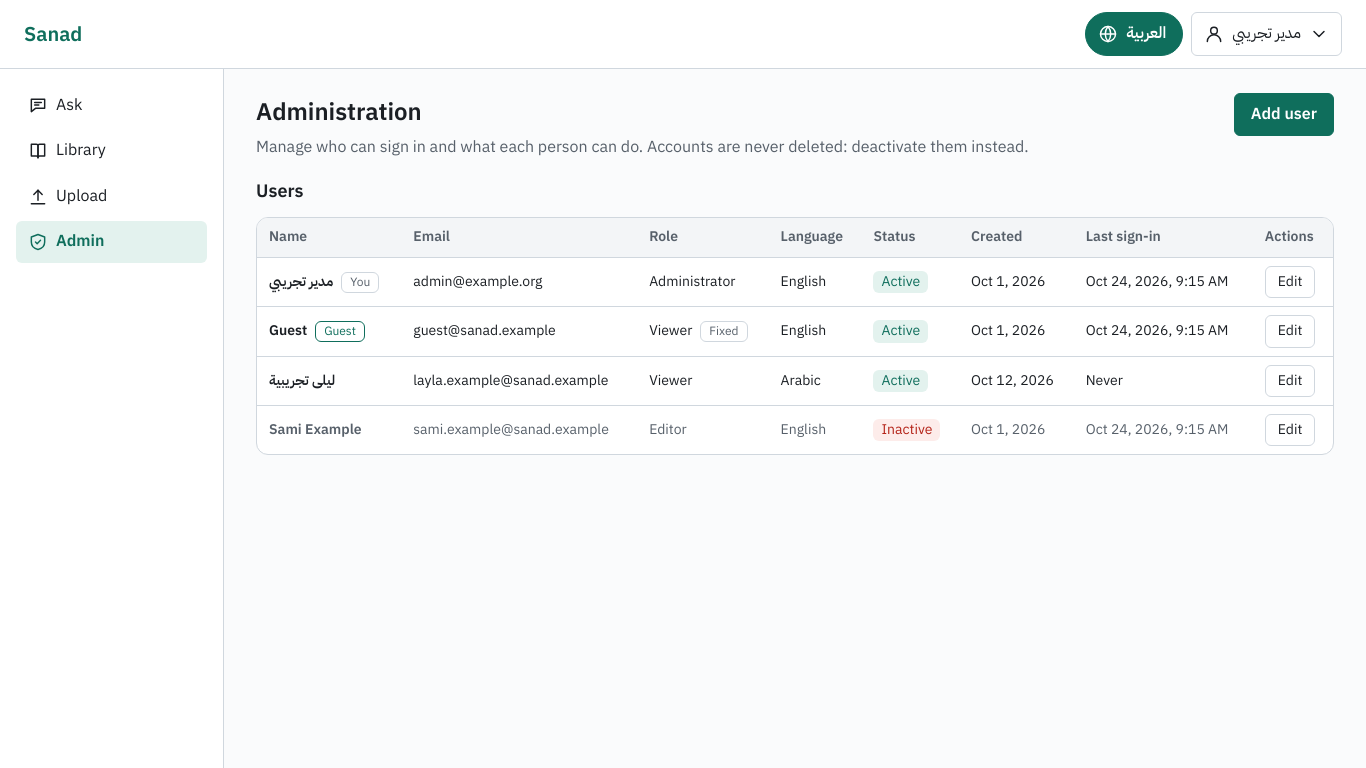
Test case: create user › defaults to the least privilege and to the language on screen
Expected: the table named "Users" is shown, [257,218,1333,454]
Click the button "Add user" at coordinates (1284, 114), box [1234,93,1334,136]
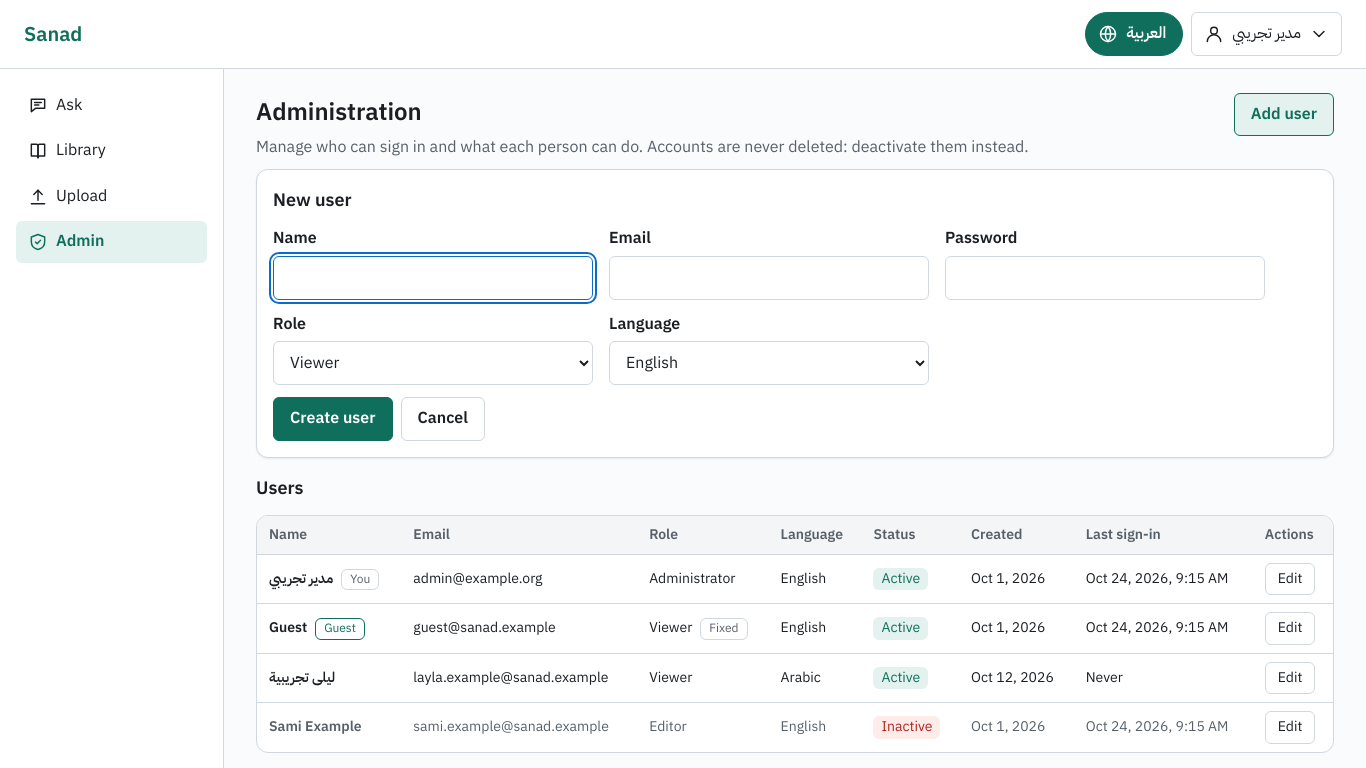
Expected: the dropdown labelled "Role" shows "Viewer", [273,341,593,385]
Expected: the dropdown labelled "Language" shows "English", [609,341,929,385]
